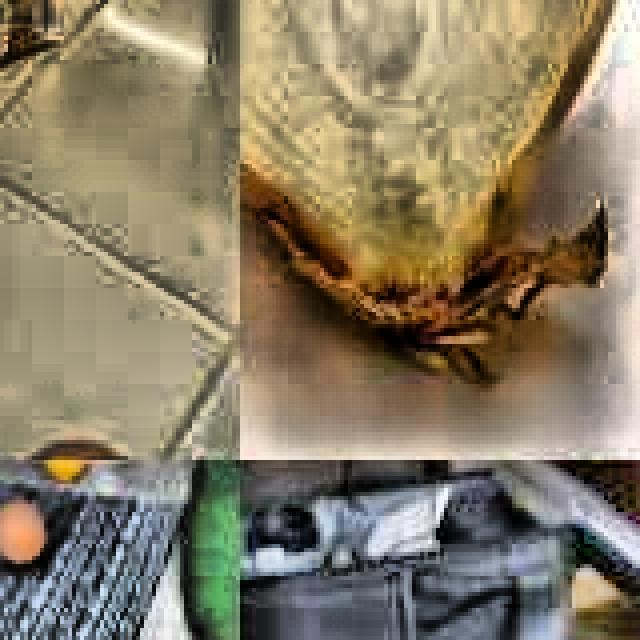egg: (0, 412, 172, 460), (0, 484, 56, 580)
onion: (240, 0, 640, 392)
